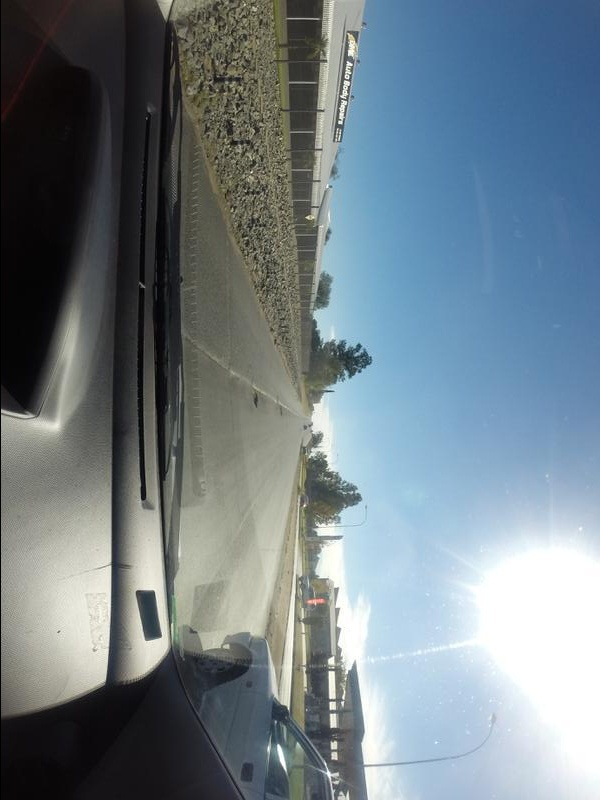pothole: (253, 387, 258, 412), (279, 404, 283, 422)
